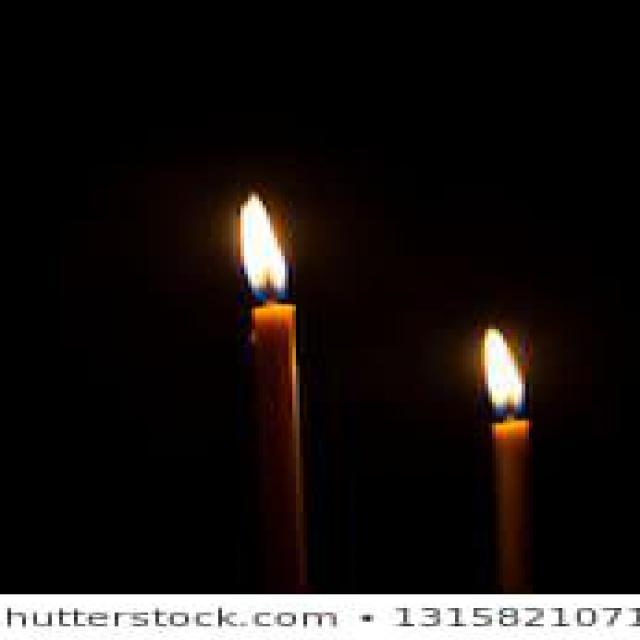Fire: (236, 195, 288, 303), (482, 328, 528, 417)
